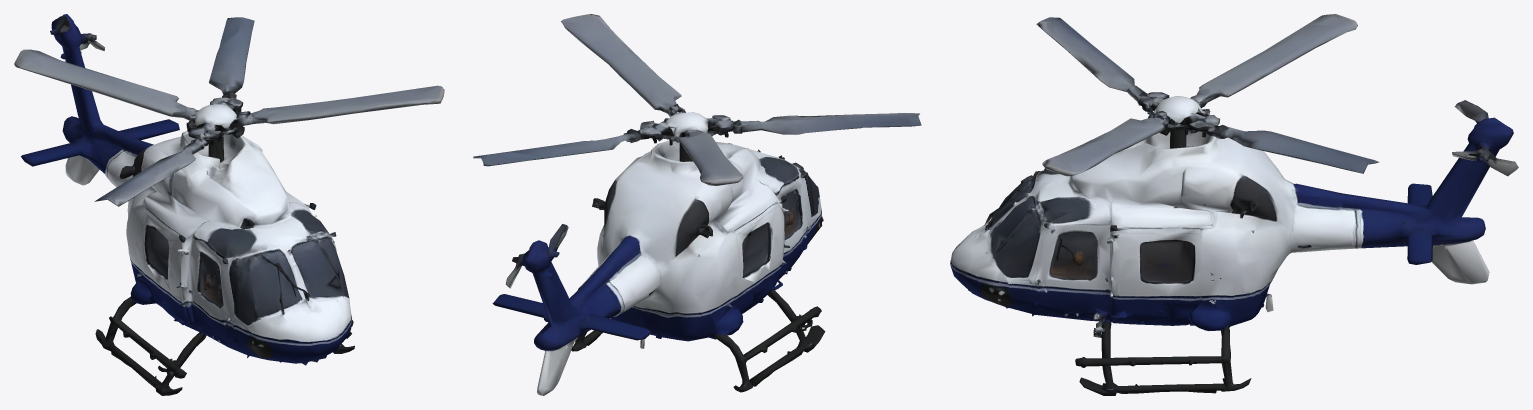
The model's file is helicopter.glb.
3 views of the same model, side by side, from view 1: azimuth 30°, elevation 25°; view 2: azimuth 150°, elevation 25°; view 3: azimuth 270°, elevation 25° (orthographic). The views are drawn at different scales.
Parts seen in each view (by area): view 1: tripo_node_90f23f9f-7e6e-40ce-aeb0-09663a3449e6; view 2: tripo_node_90f23f9f-7e6e-40ce-aeb0-09663a3449e6; view 3: tripo_node_90f23f9f-7e6e-40ce-aeb0-09663a3449e6.
Boxes of the visible parts, left/top/right/bottom form: tripo_node_90f23f9f-7e6e-40ce-aeb0-09663a3449e6: left=14, top=14, right=444, bottom=395; tripo_node_90f23f9f-7e6e-40ce-aeb0-09663a3449e6: left=473, top=14, right=921, bottom=395; tripo_node_90f23f9f-7e6e-40ce-aeb0-09663a3449e6: left=950, top=14, right=1518, bottom=395.
Size of the model in its own units: 0.7518 by 0.5302 by 1.
Materials: 1 (1 with a texture image).
